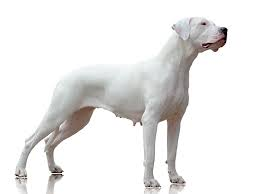dog: (14, 14, 231, 190)
